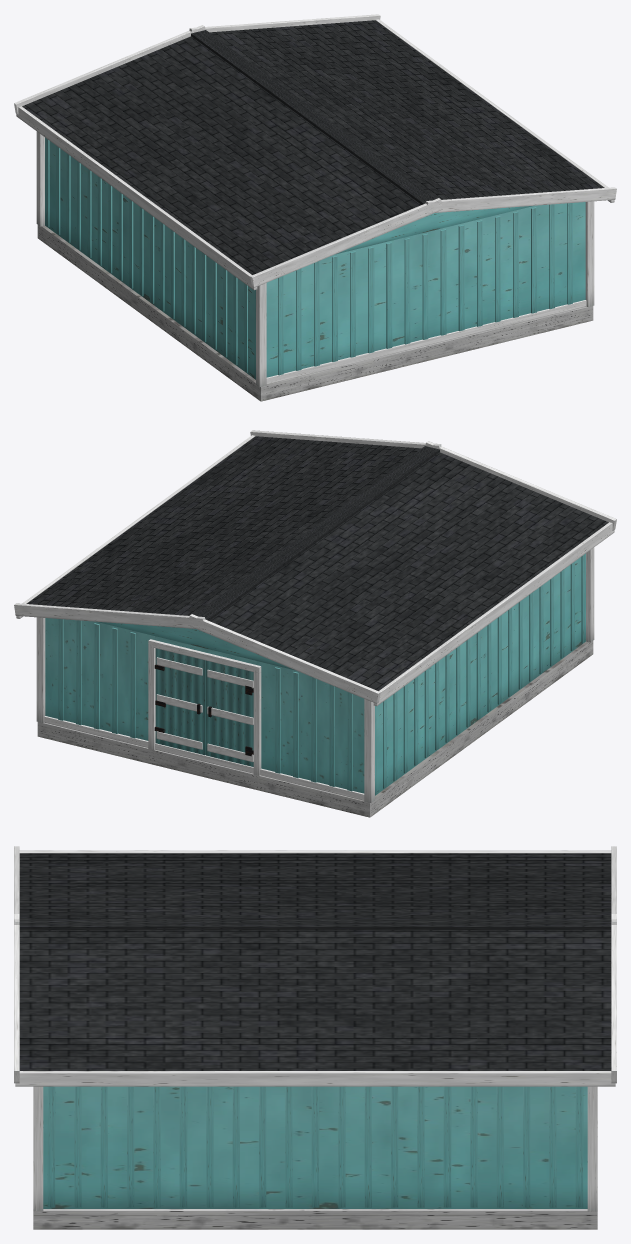
The model's file is shed.glb.
3 renders of one model, top to bottom at view 1: azimuth 30°, elevation 25°; view 2: azimuth 150°, elevation 25°; view 3: azimuth 270°, elevation 25°, orthographic. The views are drawn at different scales.
Parts seen in each view (by area): view 1: Roof_L, Roof_R, Wall_Rear, Wall_W, Foundation, RidgeCap, FasciaEave_-1, Barge_L_-1, Barge_R_-1, Skirt_R, Gable_Rear, Barge_L_1 (+22 smaller); view 2: Roof_L, Roof_R, Wall_W, Foundation, Wall_Front_L, Wall_Front_R, RidgeCap, Door_R, Door_L, FasciaEave_-1, Barge_L_1, Barge_R_1 (+21 smaller); view 3: Roof_R, Wall_E, Roof_L, Foundation, FasciaEave_1, RidgeCap, FasciaEave_-1, CornerTrim_1-1, CornerTrim_11, Batten_E_-10, Batten_E_-5, Batten_E_0 (+20 smaller).
Boxes of the visible parts, box(x1,y1,x2,y2) form: Roof_L: box(22, 36, 420, 274); Roof_R: box(209, 20, 603, 199); Wall_Rear: box(266, 202, 585, 377); Wall_W: box(45, 137, 255, 379); Foundation: box(37, 225, 593, 401); RidgeCap: box(191, 30, 436, 204); FasciaEave_-1: box(16, 106, 257, 290); Barge_L_-1: box(250, 198, 442, 287); Barge_R_-1: box(425, 187, 616, 213); Skirt_R: box(266, 300, 586, 384); Gable_Rear: box(335, 205, 534, 254); Barge_L_1: box(14, 25, 205, 114); Roof_L: box(210, 452, 608, 690); Roof_R: box(27, 436, 421, 615); Wall_W: box(375, 553, 585, 795); Foundation: box(37, 641, 593, 817); Wall_Front_L: box(256, 661, 364, 793); Wall_Front_R: box(45, 618, 154, 740); RidgeCap: box(194, 446, 439, 620); Door_R: box(155, 648, 205, 755); Door_L: box(205, 660, 253, 766); FasciaEave_-1: box(373, 522, 614, 706); Barge_L_1: box(188, 614, 380, 703); Barge_R_1: box(14, 603, 205, 629); Roof_R: box(19, 930, 611, 1070); Wall_E: box(43, 1086, 587, 1208); Roof_L: box(19, 853, 611, 917); Foundation: box(33, 1209, 597, 1229); FasciaEave_1: box(15, 1071, 615, 1086); RidgeCap: box(19, 918, 611, 930); FasciaEave_-1: box(19, 850, 611, 853); CornerTrim_1-1: box(33, 1086, 43, 1211); CornerTrim_11: box(587, 1086, 597, 1211); Batten_E_-10: box(47, 1086, 55, 1207); Batten_E_-5: box(179, 1086, 187, 1207); Batten_E_0: box(311, 1086, 319, 1207).
Size of the model in its own units: 6.45 by 2.8 by 7.31.
1 material, 1 textured.
